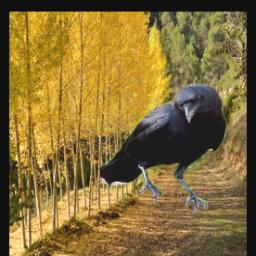Crow: (100, 84, 226, 213)
Sparrow: (222, 30, 242, 64)
